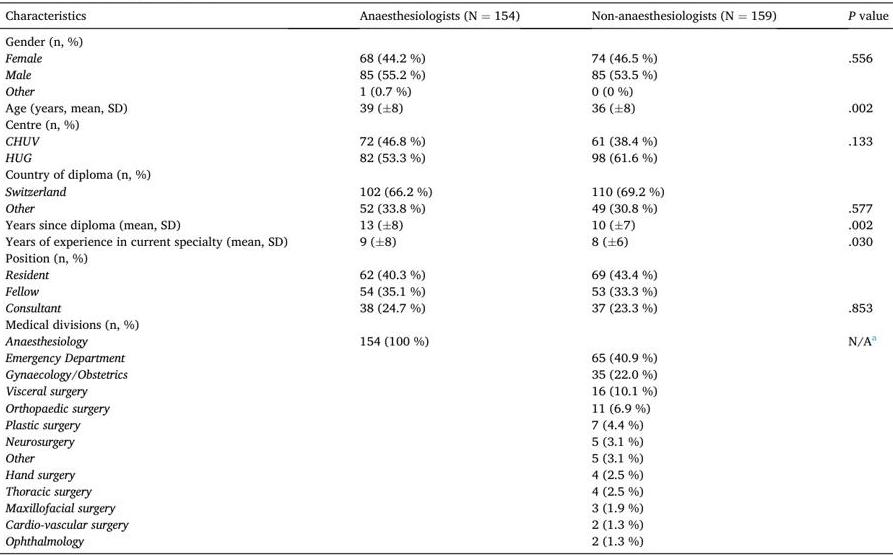table: (4, 4, 888, 550)
table column: (4, 4, 323, 550), (555, 4, 811, 550), (323, 4, 555, 550), (811, 4, 888, 550)
table column header: (4, 4, 888, 30)
table projected row header: (4, 30, 888, 48), (4, 165, 888, 181), (4, 315, 888, 331), (4, 251, 888, 265), (4, 118, 888, 131)
table row: (4, 4, 888, 30), (4, 98, 888, 118), (4, 215, 888, 235), (4, 531, 888, 550), (4, 30, 888, 48), (4, 48, 888, 65), (4, 65, 888, 82), (4, 131, 888, 148), (4, 148, 888, 165), (4, 181, 888, 198), (4, 198, 888, 215), (4, 281, 888, 298), (4, 298, 888, 315), (4, 331, 888, 348), (4, 348, 888, 365), (4, 381, 888, 398), (4, 398, 888, 415), (4, 431, 888, 448), (4, 448, 888, 465), (4, 481, 888, 498), (4, 498, 888, 515), (4, 82, 888, 98), (4, 165, 888, 181), (4, 235, 888, 251), (4, 265, 888, 281), (4, 315, 888, 331), (4, 365, 888, 381), (4, 415, 888, 431), (4, 465, 888, 481), (4, 515, 888, 531), (4, 251, 888, 265), (4, 118, 888, 131)
table spanning cell: (323, 331, 555, 550), (811, 331, 888, 550), (811, 48, 888, 98), (811, 131, 888, 165)
